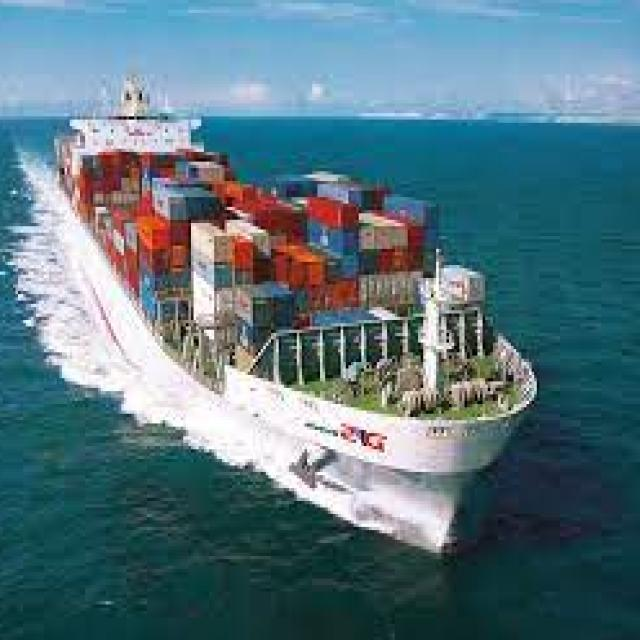cargoship: (38, 75, 540, 546)
